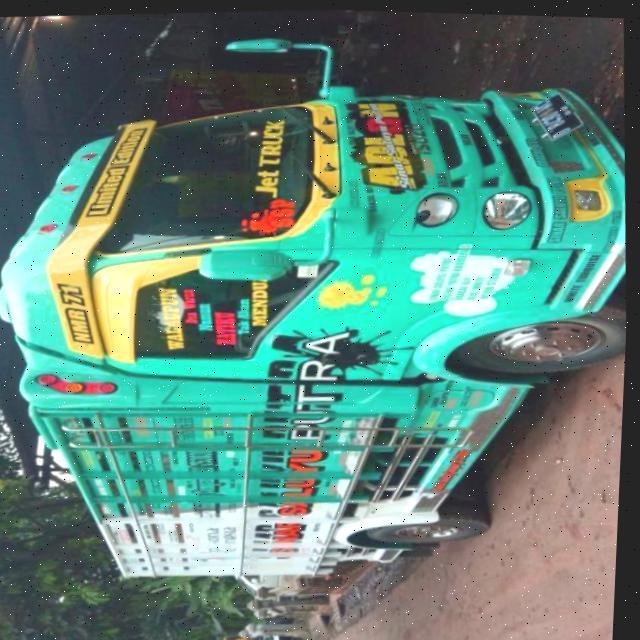truck: (0, 13, 640, 599)
